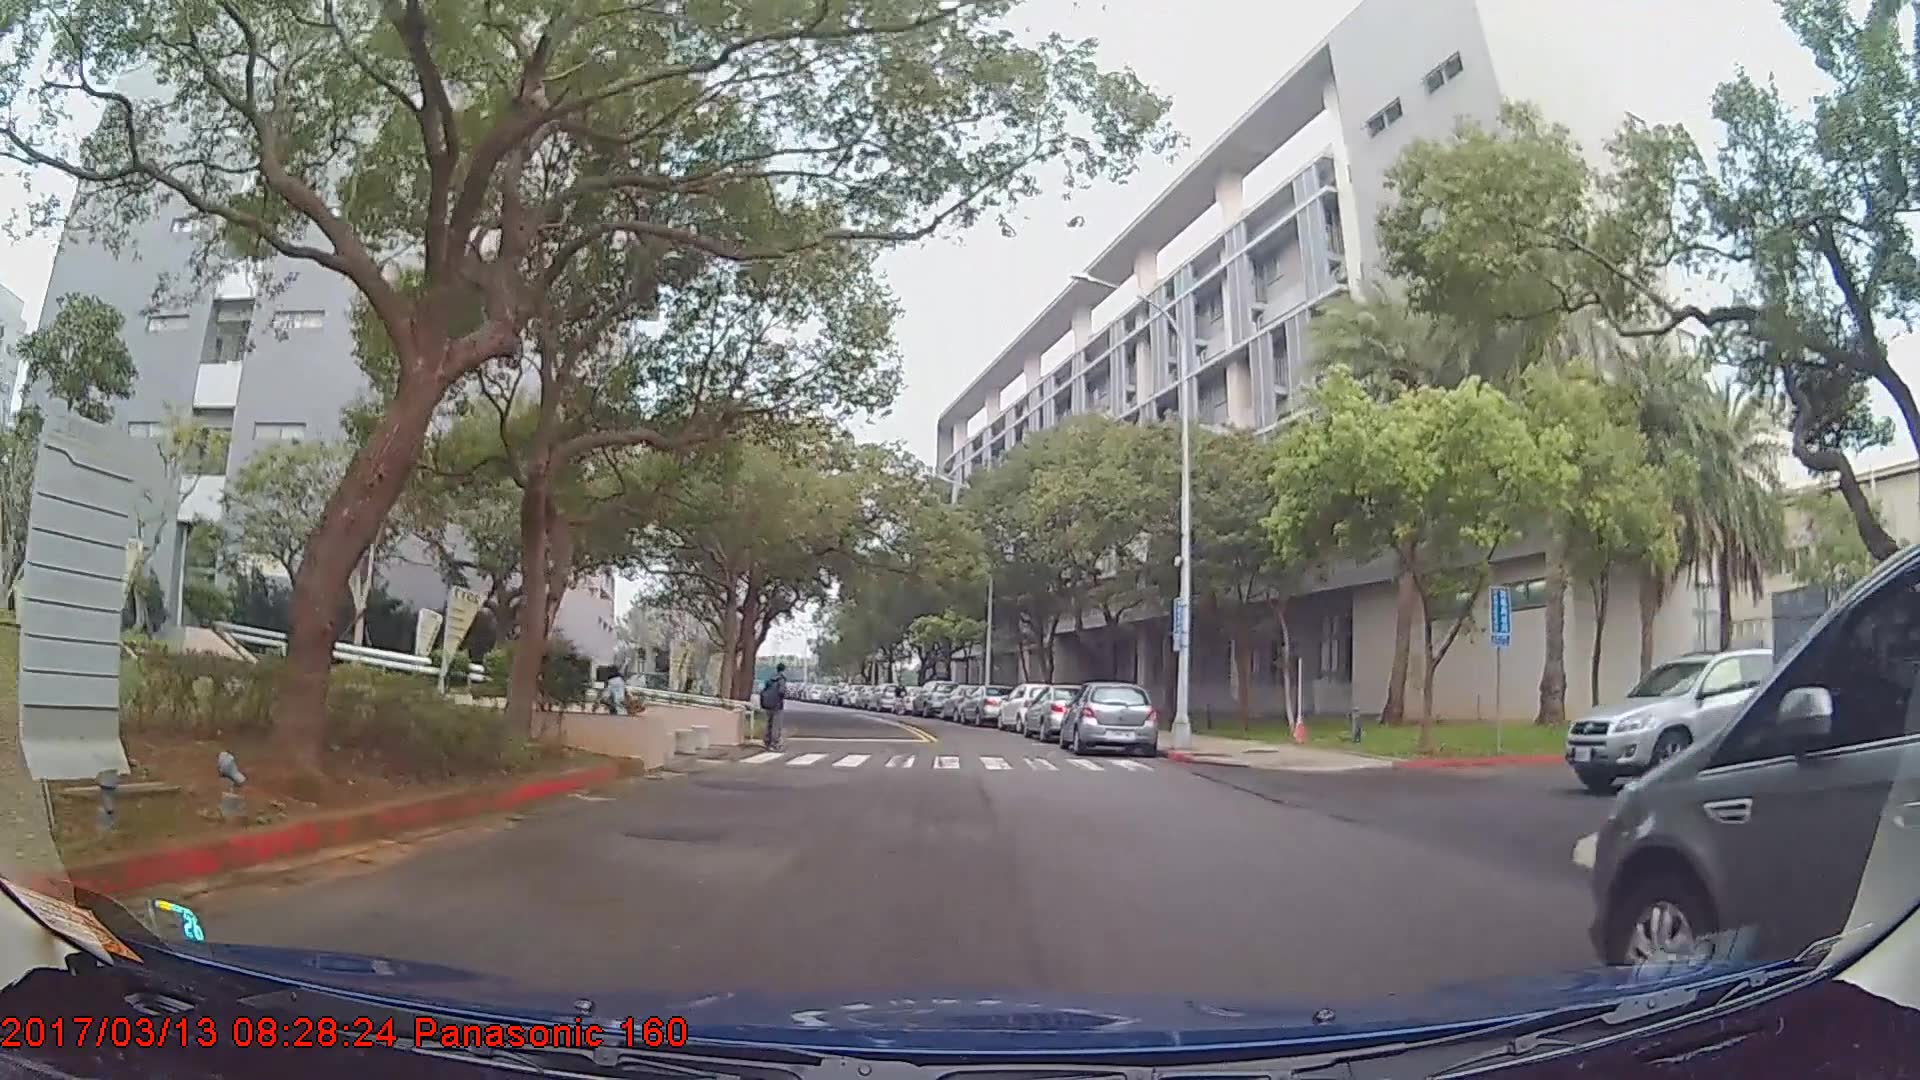pedestrian: (589, 665, 649, 756), (758, 662, 792, 755)
vehicle: (1594, 542, 1920, 1012), (1565, 645, 1825, 789), (1058, 679, 1157, 757), (1018, 680, 1108, 740), (995, 678, 1069, 736), (958, 681, 1010, 722), (911, 678, 955, 715)
